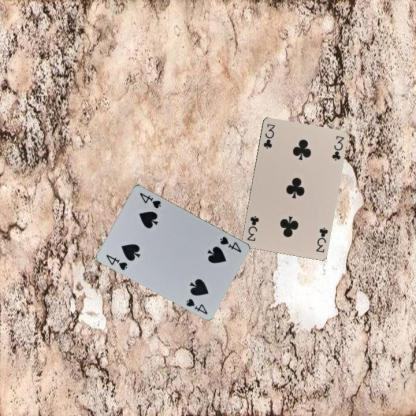3c: (313, 224, 329, 254), (260, 121, 276, 150)
4s: (218, 234, 242, 254), (104, 252, 129, 271)
